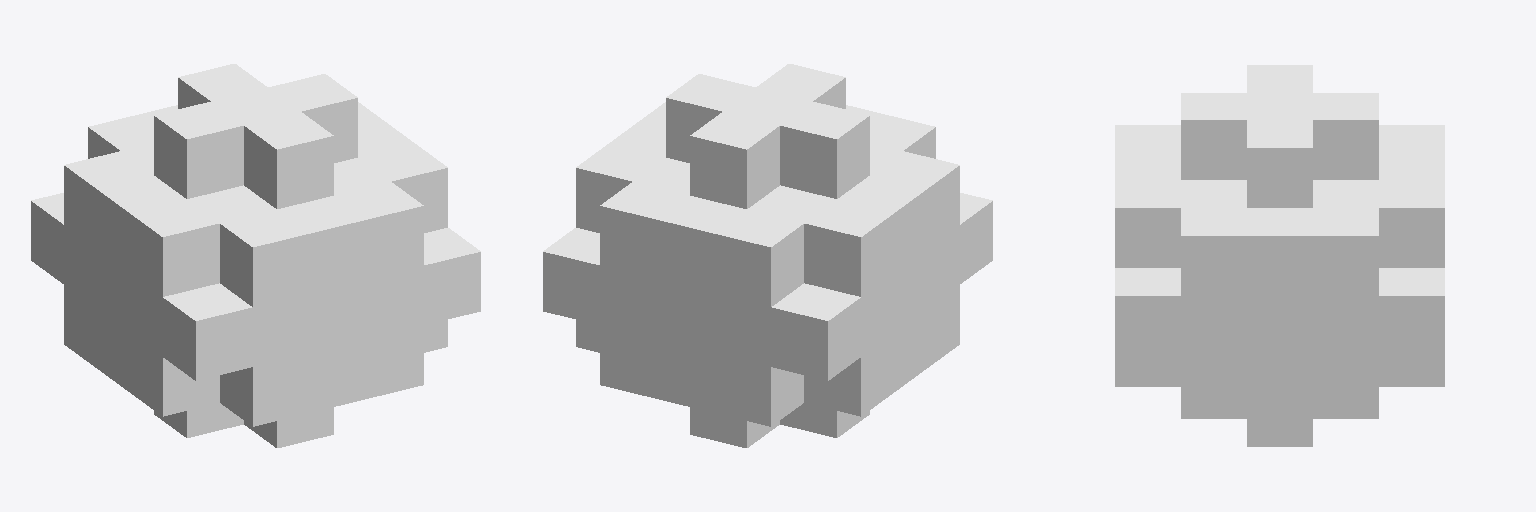
Rendered from Monster_bullet_Ver1.obj.
3 renders of one model, left to right at view 1: azimuth 30°, elevation 25°; view 2: azimuth 150°, elevation 25°; view 3: azimuth 270°, elevation 25°, orthographic.
Visible parts, largest first — view 1: object 1; view 2: object 1; view 3: object 1.
Part boxes in pixels (bbox=[...]): object 1: bbox=[31, 64, 480, 447]; object 1: bbox=[543, 64, 992, 447]; object 1: bbox=[1115, 65, 1444, 446].
Size of the model in its own units: 0.5 by 0.5 by 0.5.